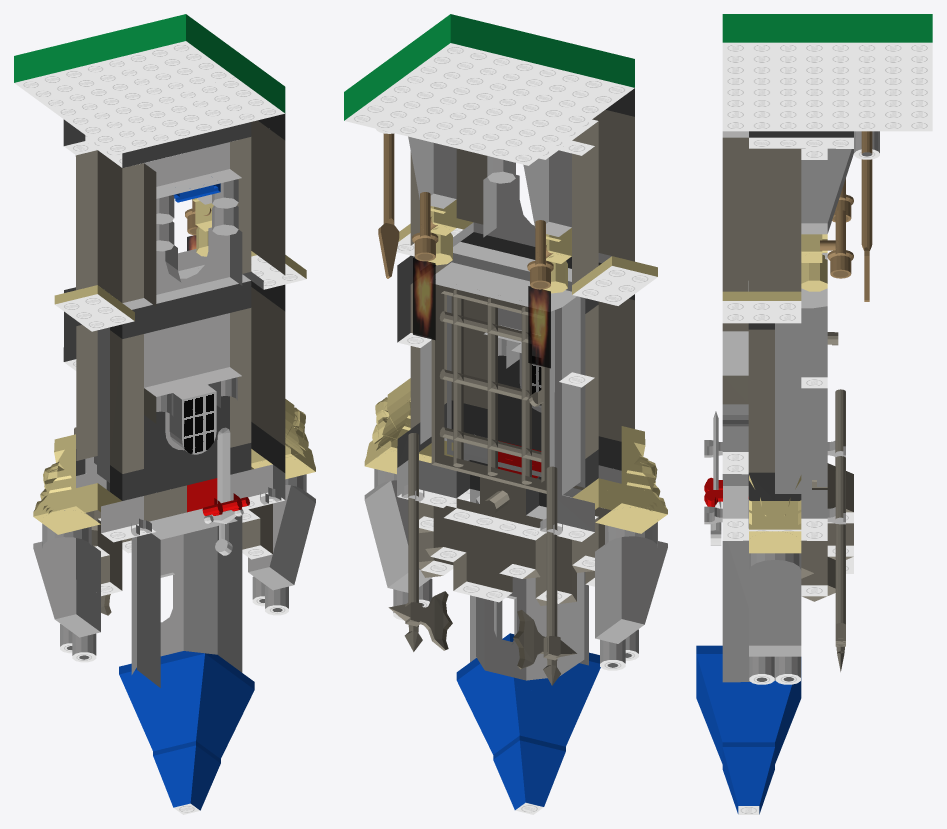
The picture shows the model from 3 angles, left to right: view 1: azimuth 30°, elevation 25°; view 2: azimuth 150°, elevation 25°; view 3: azimuth 270°, elevation 25°; orthographic projection. The views are drawn at different scales.
Parts seen in each view (by area): view 1: 062_OC6094B5_PART_4, 049_OC6094B5_PART_2, 014_OC6094B5_PART_10, 018_OC6094B5_PART_1, 042_OC6094B5_PART_12, 036_OC6094B5_PART_13, 054_OC6094B5_PART_6, 058_OC6094B5_PART_3, 025_OC6094B5_PART_9, 076_L_7101400; view 2: 062_OC6094B5_PART_4, 018_OC6094B5_PART_1, 049_OC6094B5_PART_2, 014_OC6094B5_PART_10, 068_OC6094B5_Door, 025_OC6094B5_PART_9, 042_OC6094B5_PART_12, 036_OC6094B5_PART_13, 054_OC6094B5_PART_6, 031_OC6094B5_PART_8.1, 030_OC6094B5_PART_8.2, 058_OC6094B5_PART_3 (+5 smaller); view 3: 018_OC6094B5_PART_1, 049_OC6094B5_PART_2, 062_OC6094B5_PART_4, 014_OC6094B5_PART_10, 036_OC6094B5_PART_13, 054_OC6094B5_PART_6, 025_OC6094B5_PART_9, 058_OC6094B5_PART_3, 030_OC6094B5_PART_8.2, 005_OC6094B5_PART_15, 095_OC6094B5_Torch_Base_159, 076_L_7101400 (+2 smaller).
Part boxes in pixels (x1,y1,x2,y2): 062_OC6094B5_PART_4: [63, 249, 285, 500]; 049_OC6094B5_PART_2: [63, 114, 285, 306]; 014_OC6094B5_PART_10: [119, 508, 254, 814]; 018_OC6094B5_PART_1: [14, 14, 285, 155]; 042_OC6094B5_PART_12: [33, 434, 121, 662]; 036_OC6094B5_PART_13: [248, 399, 315, 615]; 054_OC6094B5_PART_6: [76, 464, 285, 542]; 058_OC6094B5_PART_3: [54, 251, 306, 331]; 025_OC6094B5_PART_9: [86, 503, 272, 596]; 076_L_7101400: [204, 427, 243, 555]; 062_OC6094B5_PART_4: [397, 222, 634, 495]; 018_OC6094B5_PART_1: [344, 14, 634, 165]; 049_OC6094B5_PART_2: [408, 88, 634, 293]; 014_OC6094B5_PART_10: [456, 488, 600, 814]; 068_OC6094B5_Door: [431, 284, 549, 493]; 025_OC6094B5_PART_9: [419, 489, 611, 605]; 042_OC6094B5_PART_12: [572, 426, 667, 670]; 036_OC6094B5_PART_13: [364, 378, 453, 620]; 054_OC6094B5_PART_6: [397, 438, 621, 541]; 031_OC6094B5_PART_8.1: [513, 466, 576, 685]; 030_OC6094B5_PART_8.2: [388, 433, 452, 651]; 058_OC6094B5_PART_3: [396, 218, 657, 305]; 018_OC6094B5_PART_1: [722, 14, 932, 131]; 049_OC6094B5_PART_2: [722, 131, 853, 291]; 062_OC6094B5_PART_4: [722, 253, 827, 500]; 014_OC6094B5_PART_10: [696, 474, 801, 814]; 036_OC6094B5_PART_13: [749, 475, 801, 684]; 054_OC6094B5_PART_6: [704, 427, 845, 540]; 025_OC6094B5_PART_9: [749, 463, 853, 601]; 058_OC6094B5_PART_3: [722, 291, 801, 323]; 030_OC6094B5_PART_8.2: [835, 456, 845, 671]; 005_OC6094B5_PART_15: [861, 131, 872, 301]; 095_OC6094B5_Torch_Base_159: [820, 210, 853, 278]; 076_L_7101400: [710, 411, 721, 545].
Size of the model in its own units: 9.6 by 25.28 by 7.2.
18 materials, 6 textured.
